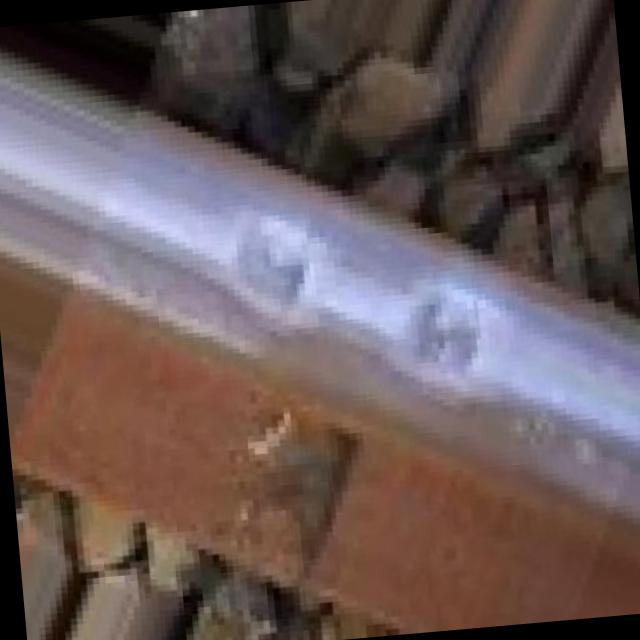defective: (154, 150, 588, 528)
